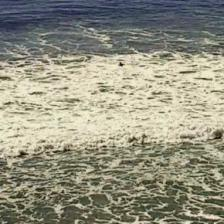surfer: (118, 62, 125, 67)
